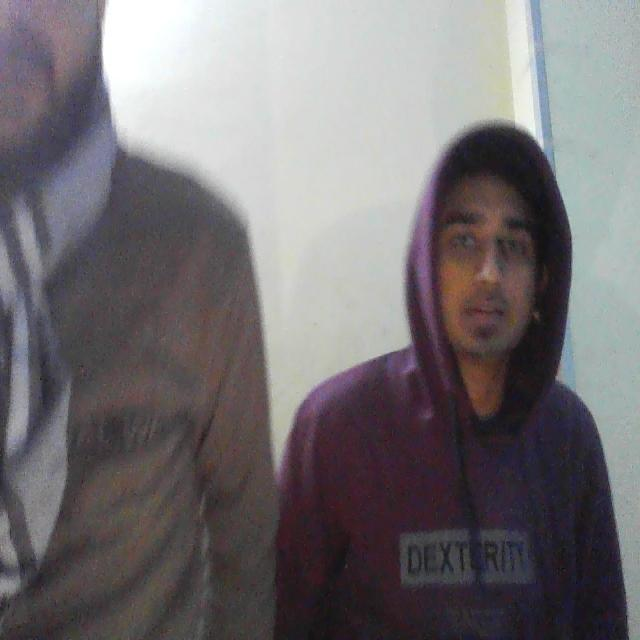real: (420, 125, 556, 383)
